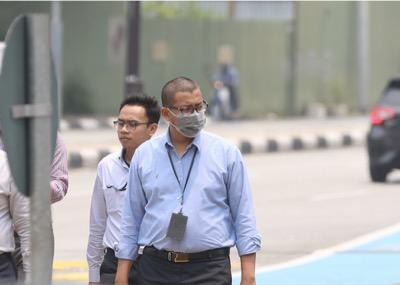with_mask: (170, 102, 206, 139)
without_mask: (116, 116, 148, 149)
